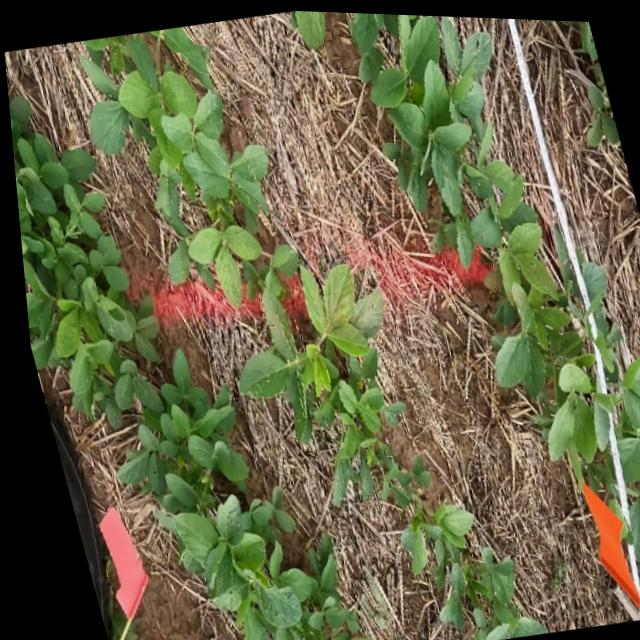soy_plant: (7, 100, 358, 640), (81, 26, 418, 503), (350, 10, 640, 553), (402, 502, 533, 639), (293, 9, 325, 45)
